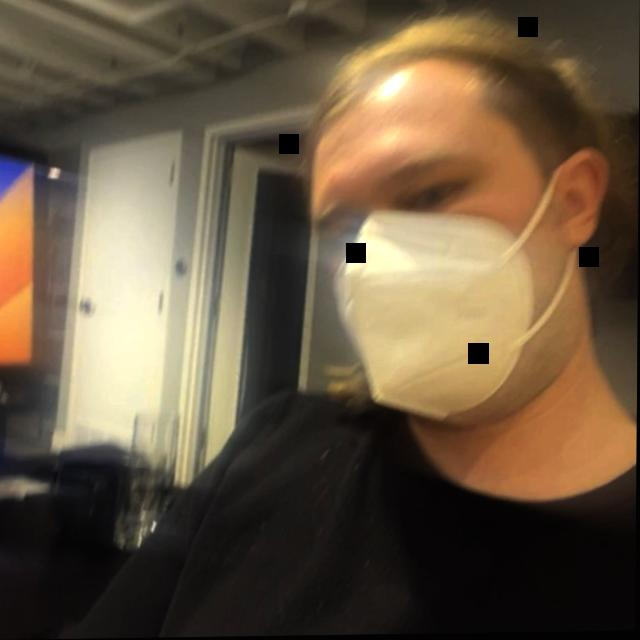Mask: (269, 8, 632, 521)
